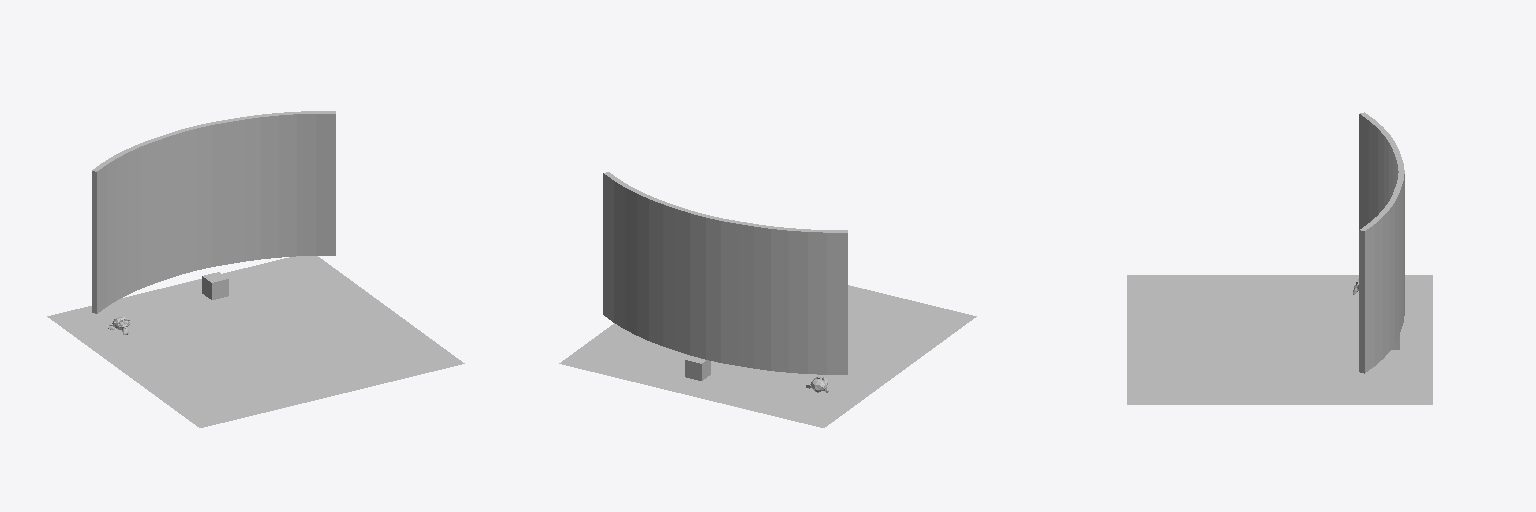
Rendered from test - curved.obj.
3 renders of one model, left to right at view 1: azimuth 30°, elevation 25°; view 2: azimuth 150°, elevation 25°; view 3: azimuth 270°, elevation 25°, orthographic.
Parts seen in each view (by area): view 1: floor_Plane.001, screen, Cube; view 2: screen, floor_Plane.001, Cube; view 3: floor_Plane.001, screen.
Boxes of the visible parts, x1,y1,x2,y2 form: floor_Plane.001: [47, 256, 464, 427]; screen: [92, 111, 335, 313]; Cube: [202, 272, 228, 299]; screen: [603, 172, 847, 374]; floor_Plane.001: [559, 285, 976, 427]; Cube: [685, 356, 710, 380]; floor_Plane.001: [1127, 275, 1432, 404]; screen: [1359, 112, 1404, 373].
Size of the model in its own units: 31.76 by 19.27 by 31.76.